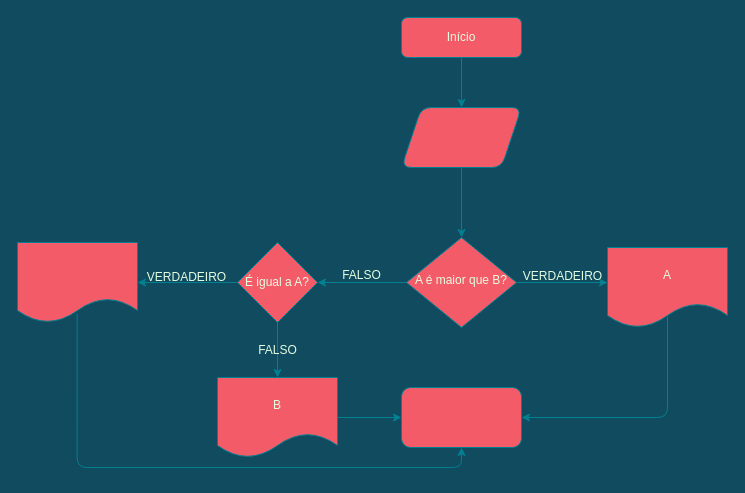
Some shapes in this 745 by 493 pixel diagram are drawn without their labels. Each missing label, with the box of its shape:
A , B: (16, 242, 138, 322)
A, B: (400, 106, 522, 168)
Fim: (400, 386, 522, 448)
